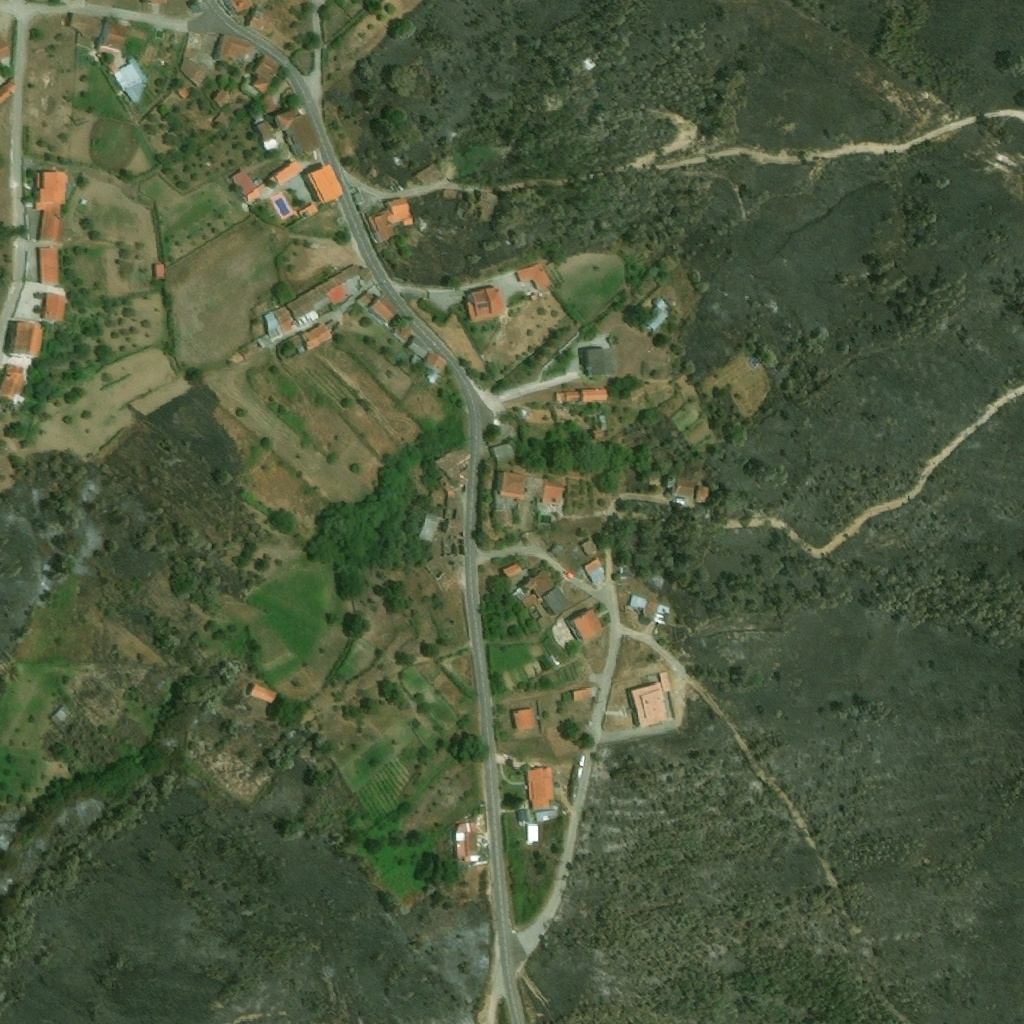0 no-damage: (261, 263, 376, 341), (68, 11, 130, 53), (276, 107, 325, 158), (368, 197, 415, 242), (179, 33, 215, 87), (626, 682, 667, 728), (468, 285, 508, 327), (433, 446, 473, 487), (302, 164, 344, 203), (453, 822, 486, 869), (1, 318, 43, 354), (229, 167, 269, 203), (357, 290, 399, 322), (630, 594, 672, 625), (565, 608, 602, 643), (526, 766, 554, 811), (35, 201, 63, 244), (665, 475, 709, 502), (211, 35, 256, 61), (492, 489, 520, 528), (253, 55, 280, 93), (35, 169, 66, 202), (516, 263, 552, 291), (301, 320, 333, 351), (639, 298, 668, 331), (419, 509, 448, 542), (555, 388, 608, 405), (112, 63, 143, 92), (499, 472, 528, 503), (524, 570, 556, 597), (0, 366, 24, 401), (539, 479, 566, 510), (38, 247, 60, 284), (39, 293, 67, 321), (543, 587, 571, 615), (586, 348, 613, 377), (405, 335, 430, 366), (244, 682, 279, 704), (268, 162, 301, 185), (477, 192, 501, 221), (584, 557, 607, 587), (0, 75, 22, 106), (491, 442, 516, 469), (247, 7, 271, 34), (257, 121, 279, 149), (512, 707, 536, 731), (415, 165, 442, 186), (424, 355, 449, 372), (526, 475, 546, 496), (580, 536, 599, 557), (51, 706, 70, 727), (502, 561, 524, 579), (590, 415, 606, 439), (569, 687, 596, 701), (534, 808, 559, 823), (214, 90, 232, 107), (261, 95, 277, 114), (514, 810, 531, 827), (660, 671, 672, 691), (523, 594, 539, 608), (176, 85, 191, 99), (153, 263, 166, 277), (552, 543, 565, 557)
4 un-classified: (224, 0, 253, 11), (0, 40, 14, 61), (337, 0, 357, 8), (142, 0, 170, 4)
